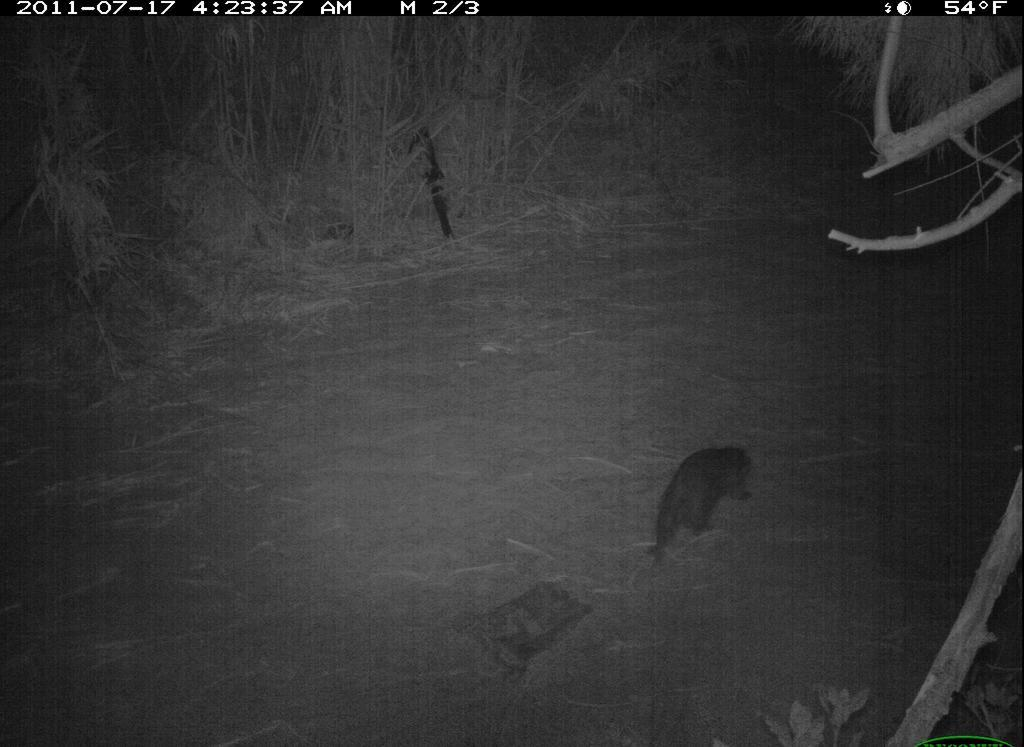raccoon: (642, 440, 765, 578)
